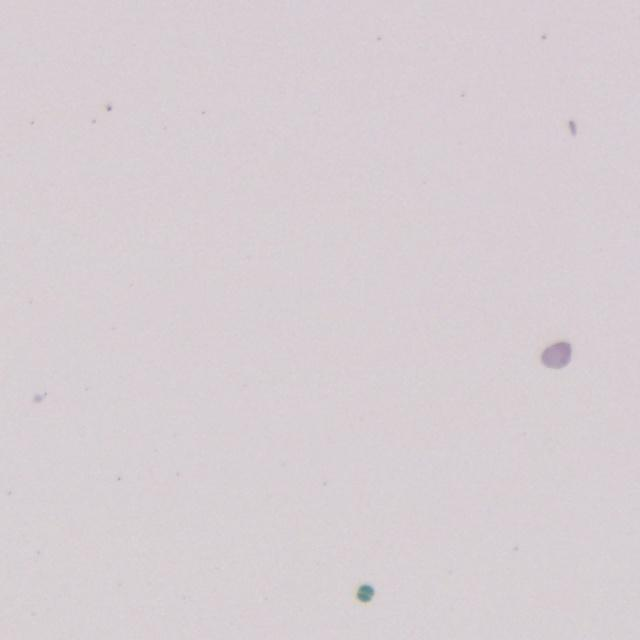intermediate: (541, 341, 571, 368)
non_viable: (356, 584, 374, 602)
